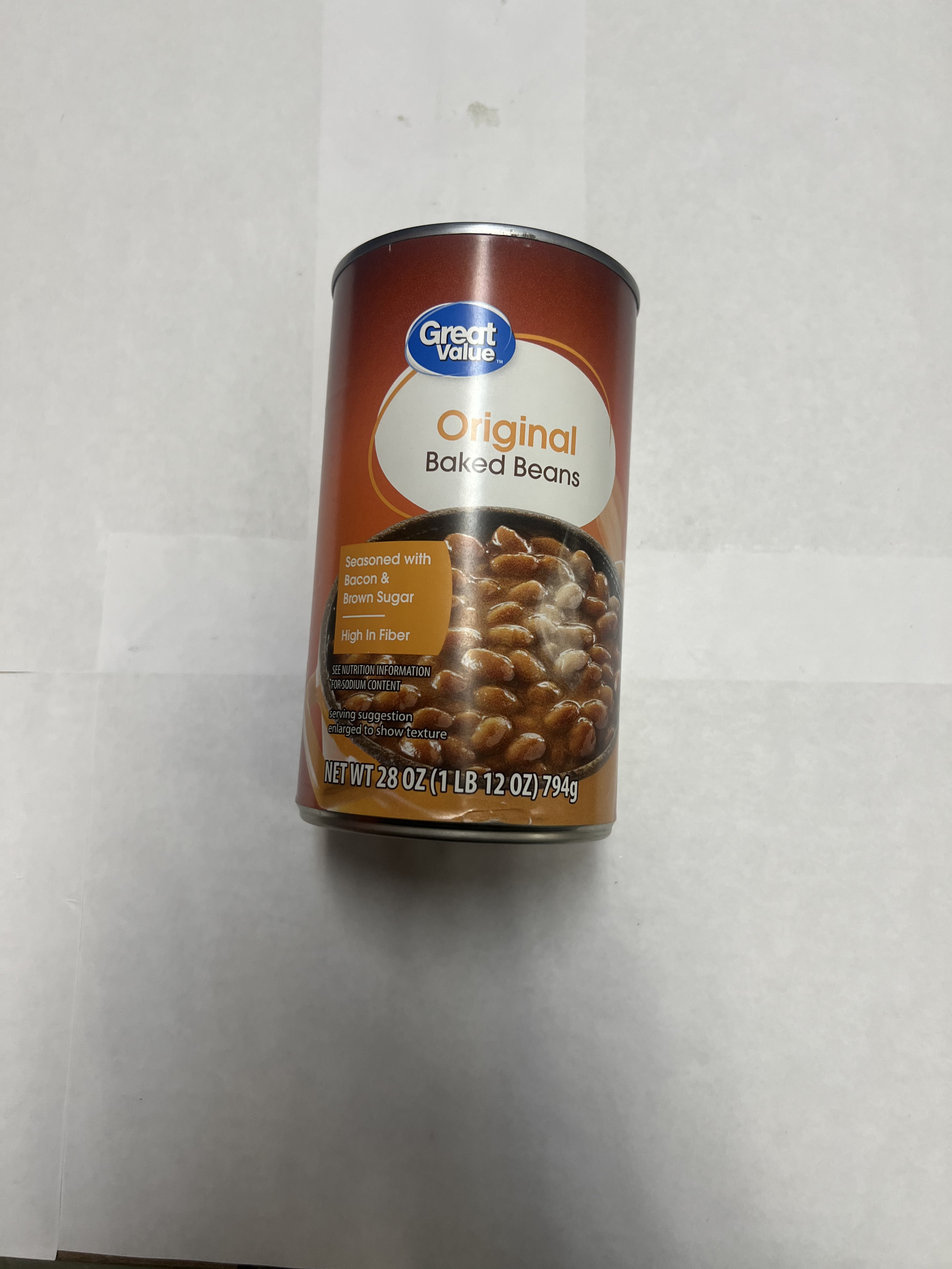packaged: (297, 215, 644, 846)
